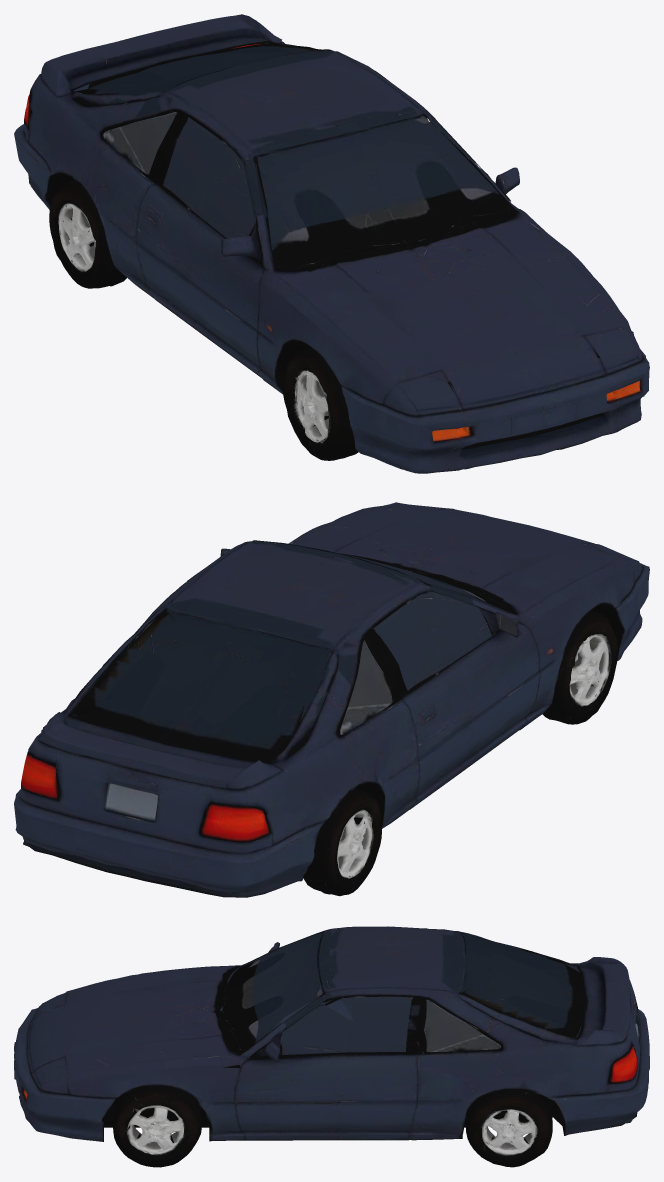
Rendered from muscle-coupe-v4.glb.
3 renders of one model, top to bottom at view 1: azimuth 30°, elevation 25°; view 2: azimuth 150°, elevation 25°; view 3: azimuth 270°, elevation 25°, orthographic. The views are drawn at different scales.
Visible parts, largest first — view 1: body, wheel_fl_mesh, wheel_rl_mesh; view 2: body, wheel_rl_mesh, wheel_fl_mesh; view 3: body, wheel_fr_mesh, wheel_rr_mesh.
Boxes of the visible parts, bbox=[...] form: body: bbox=[14, 14, 649, 473]; wheel_fl_mesh: bbox=[283, 347, 358, 460]; wheel_rl_mesh: bbox=[49, 180, 126, 288]; body: bbox=[14, 502, 649, 897]; wheel_rl_mesh: bbox=[303, 789, 381, 896]; wheel_fl_mesh: bbox=[542, 610, 618, 724]; body: bbox=[14, 926, 649, 1141]; wheel_fr_mesh: bbox=[113, 1085, 202, 1167]; wheel_rr_mesh: bbox=[466, 1089, 552, 1167].
Size of the model in its own units: 0.3867 by 0.269 by 0.9512.
1 material, 1 textured.
